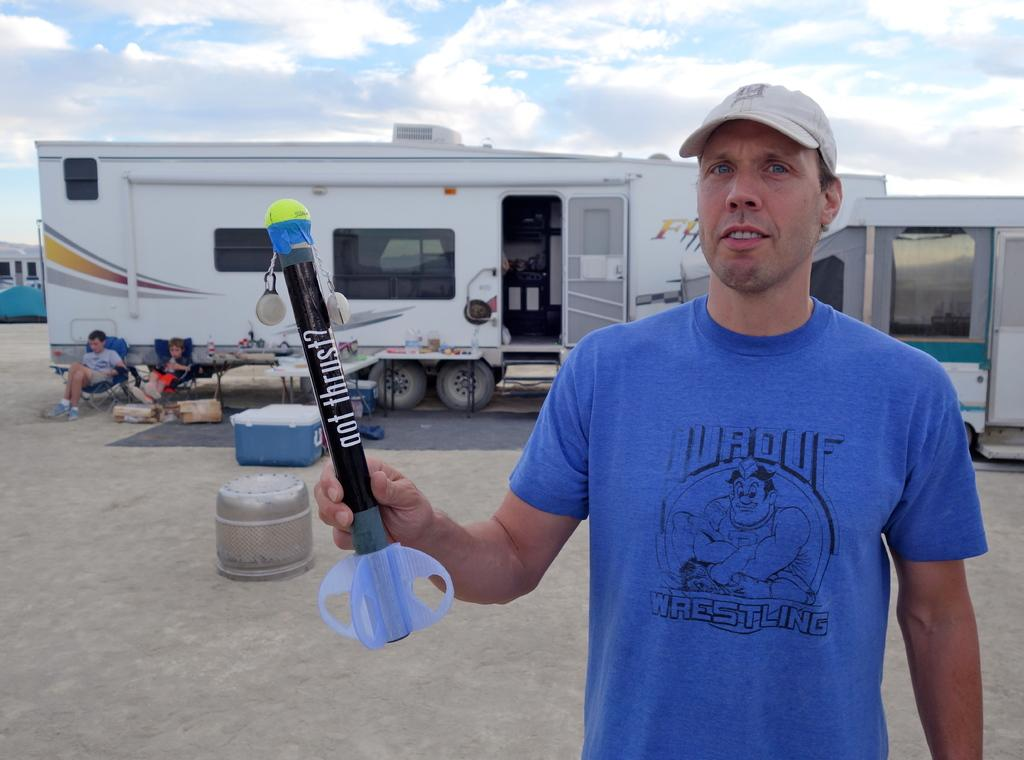Hat: (678, 80, 837, 180)
